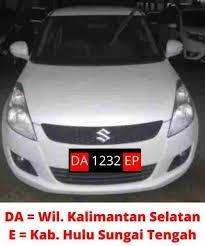plate: (71, 150, 141, 171)
